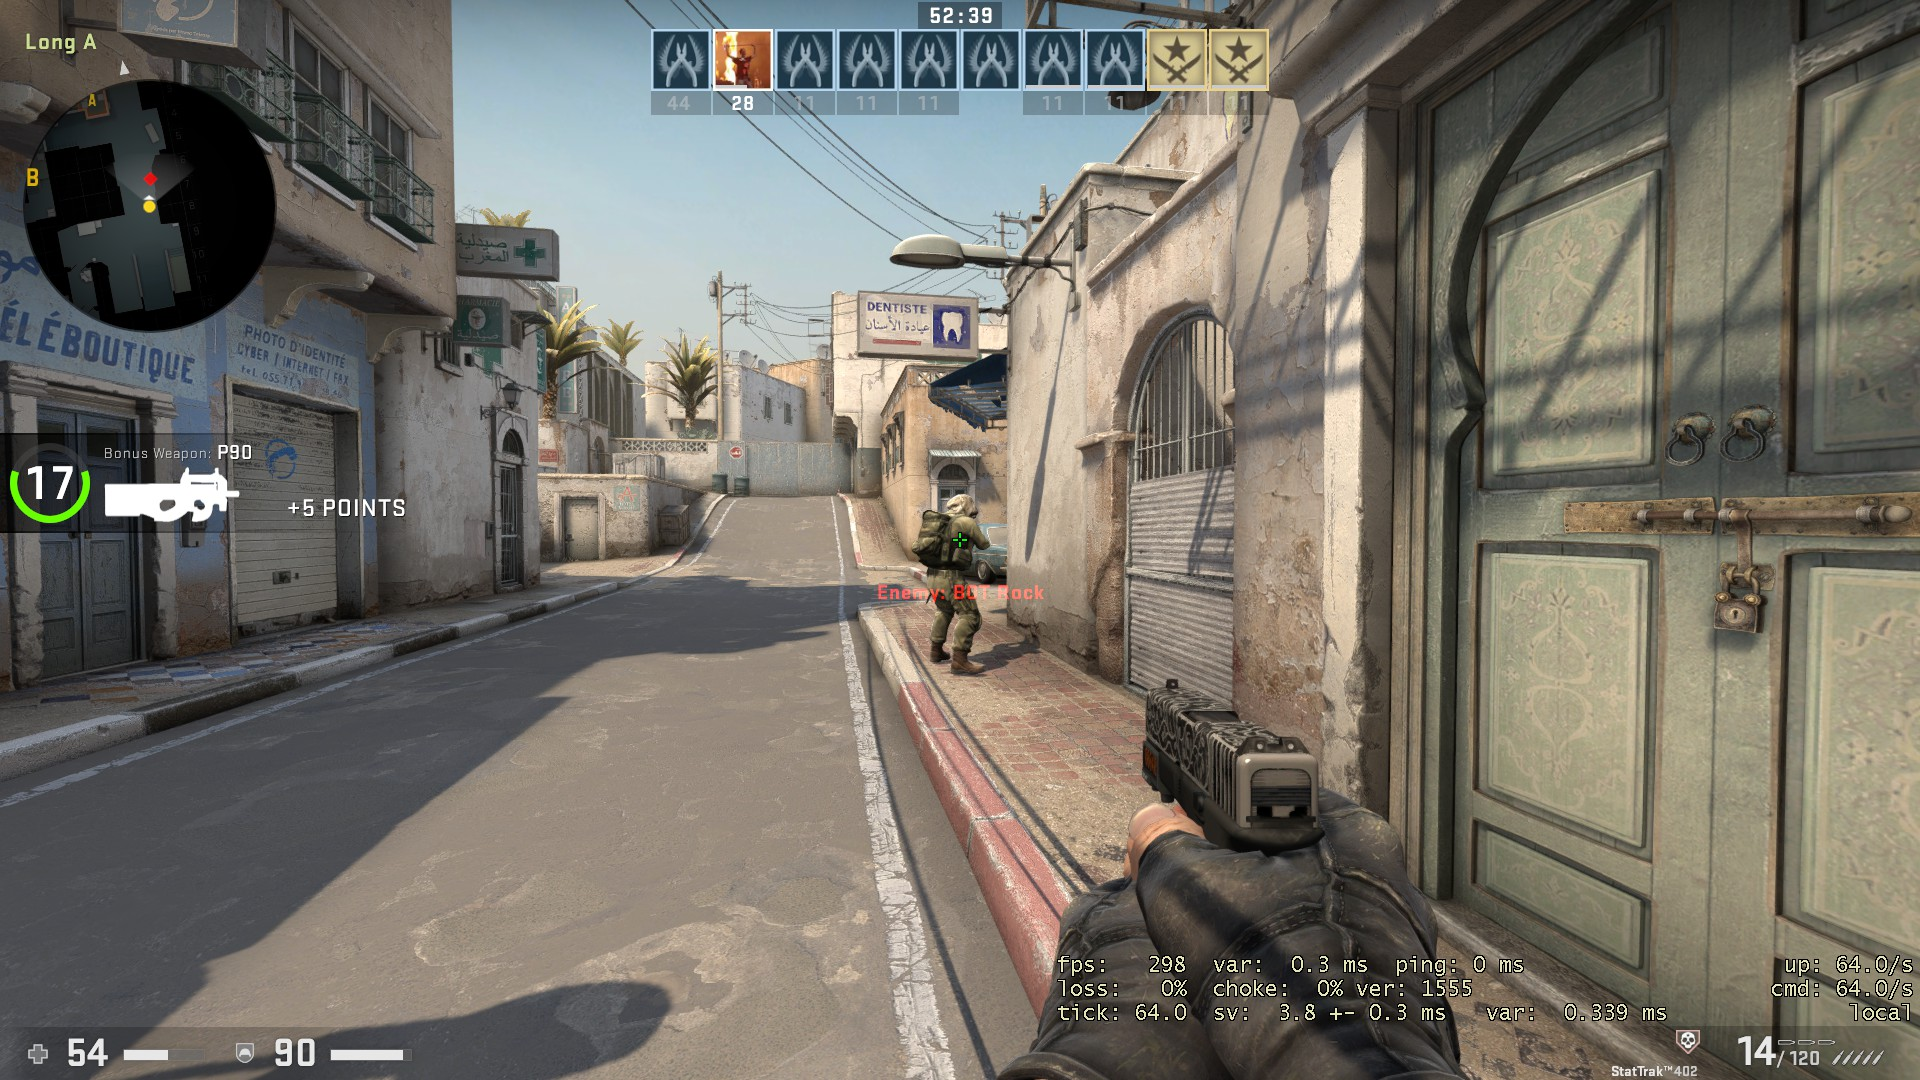ct: (908, 484, 999, 678)
player: (909, 486, 996, 682)
